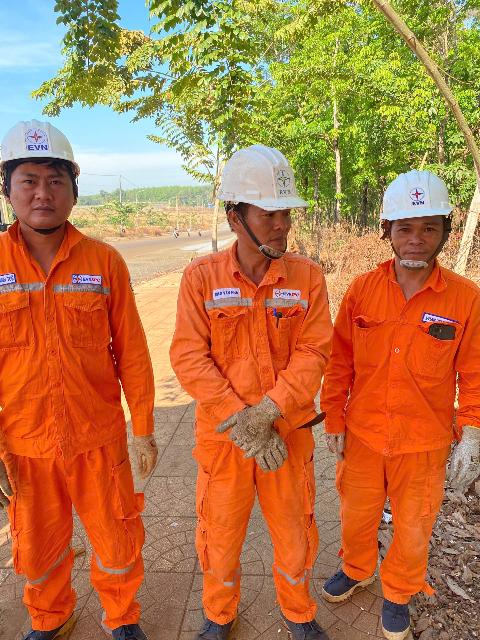gloves: (209, 394, 302, 478), (442, 415, 480, 492), (0, 443, 26, 513), (129, 428, 162, 478), (317, 419, 350, 465)
helmet: (209, 139, 308, 216), (361, 158, 469, 225), (3, 113, 93, 178)
shoes: (317, 547, 374, 602), (9, 599, 85, 640), (178, 600, 244, 640), (271, 601, 335, 640), (381, 578, 413, 640), (98, 608, 158, 640)
